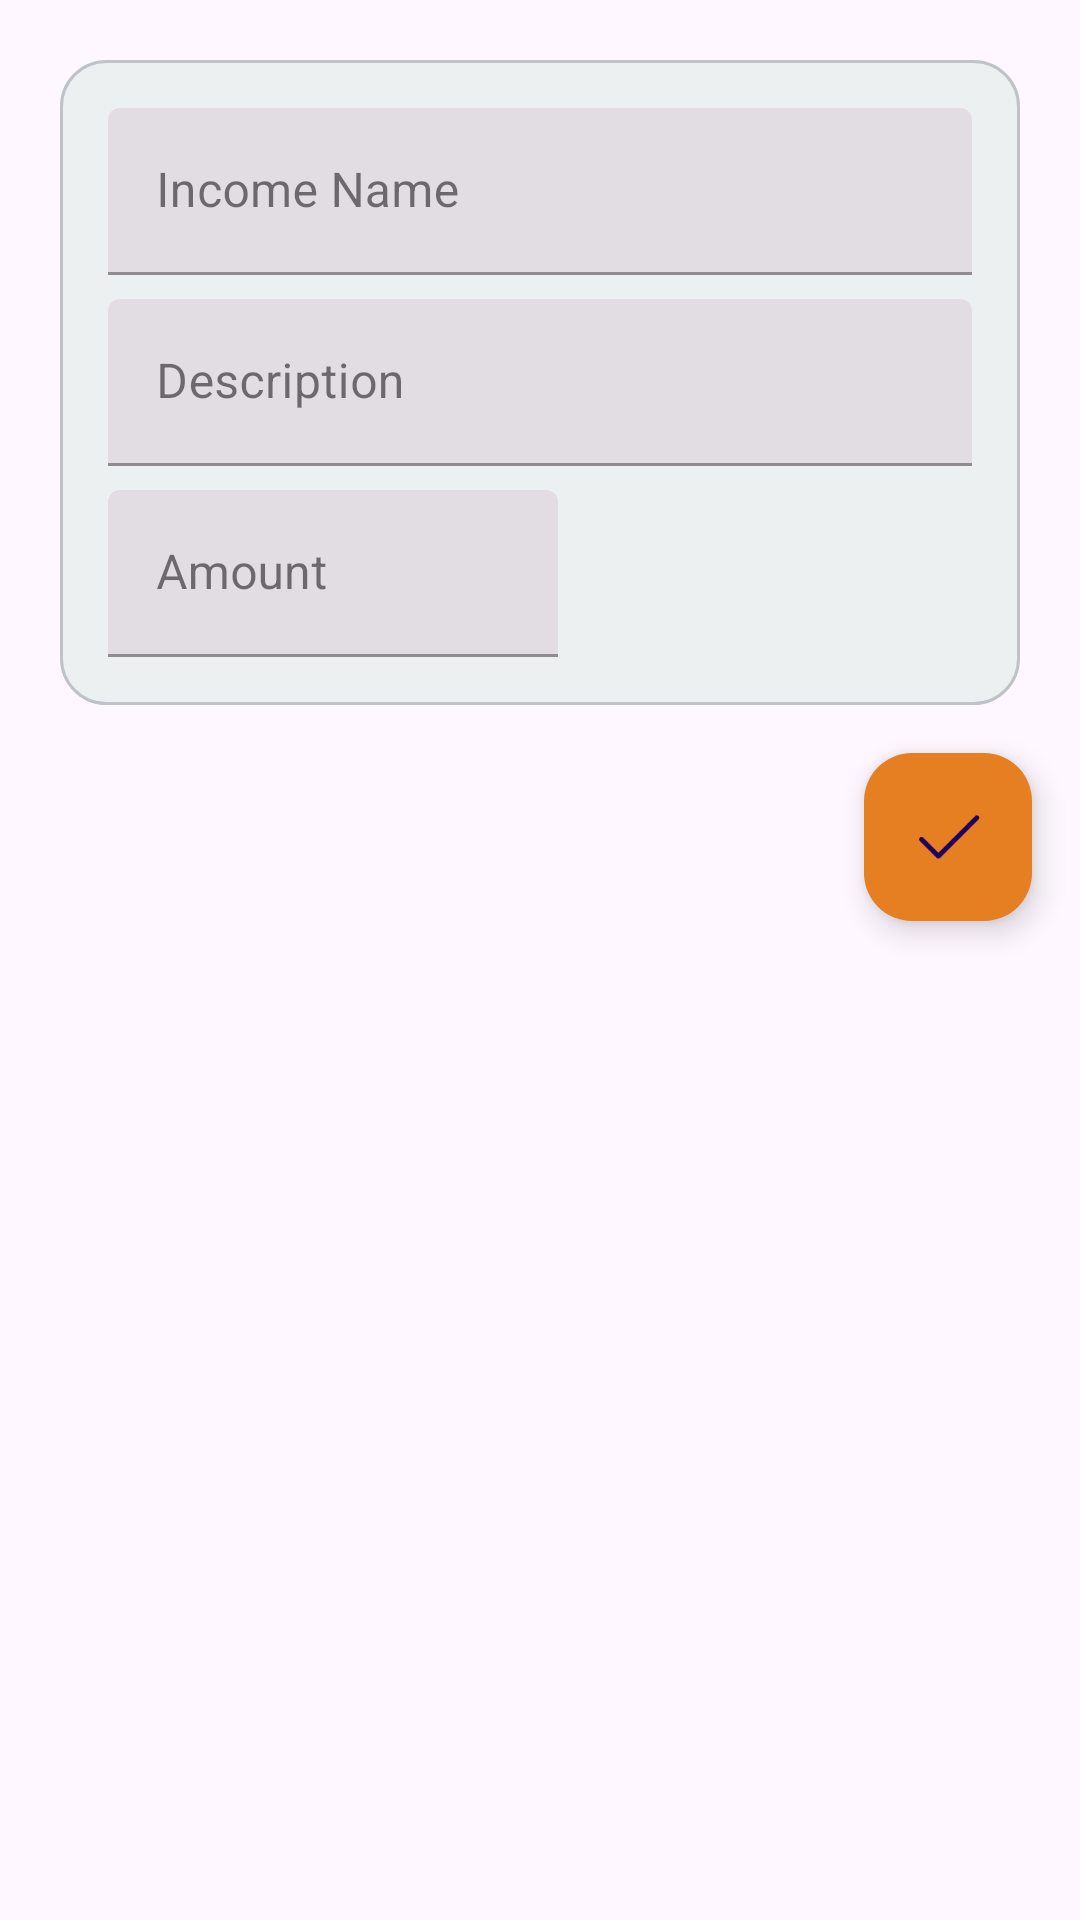

Where to tap for icons on this 1080*1920 app screen, as point (x, y):
confirm: point (948, 837)
